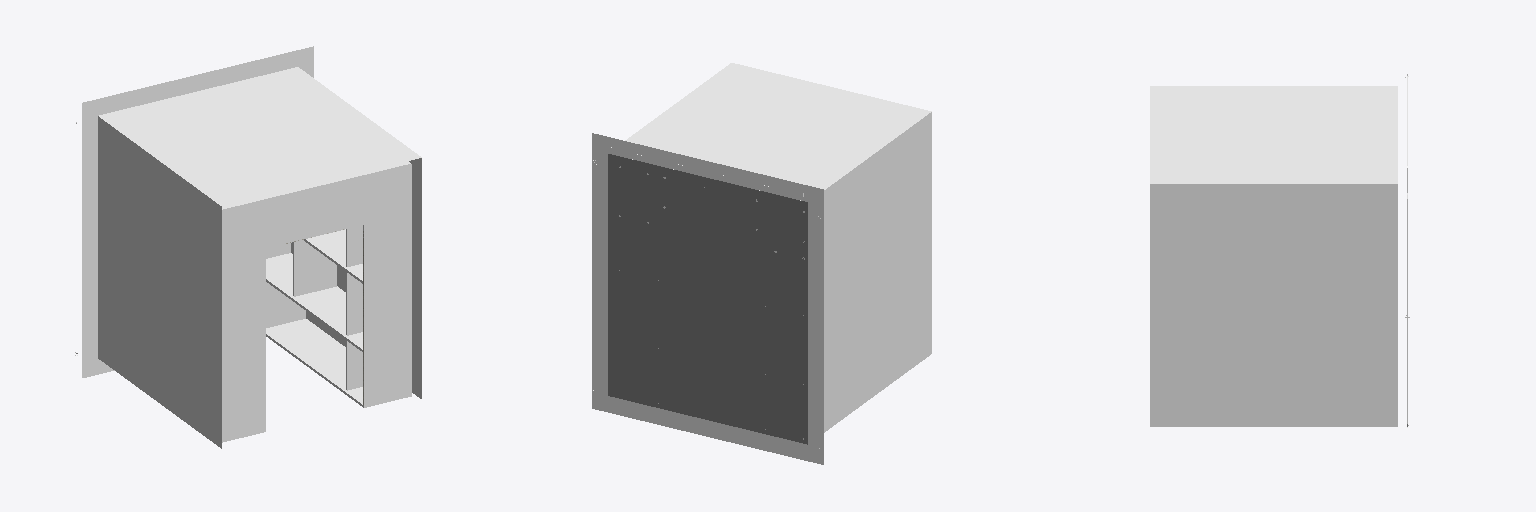
3 views of the same model, side by side, from view 1: azimuth 30°, elevation 25°; view 2: azimuth 150°, elevation 25°; view 3: azimuth 270°, elevation 25° (orthographic).
Parts seen in each view (by area): view 1: Object_171, Object_169, Object_85, Object_42, Object_178, Object_172, Object_156, Object_126, Object_23, Object_139, Object_41, Object_143 (+9 smaller); view 2: Object_168, Object_171, Object_169, Object_178, Object_174, Object_176, Object_172; view 3: Object_170, Object_169.
Part boxes in pixels (x1,y1,x2,y2): Object_171: (98,116,221,448); Object_169: (99,67,421,205); Object_85: (364,163,411,281); Object_42: (222,185,320,258); Object_178: (82,104,97,377); Object_172: (82,46,313,115); Object_156: (266,319,411,407); Object_126: (364,273,411,350); Object_23: (222,309,265,384); Object_139: (266,253,411,352); Object_41: (222,249,265,316); Object_143: (364,342,411,404); Object_168: (608,154,807,444); Object_171: (824,112,931,432); Object_169: (625,63,931,200); Object_178: (808,190,823,464); Object_174: (592,134,607,407); Object_176: (592,396,822,464); Object_172: (592,133,823,201); Object_170: (1150,184,1397,426); Object_169: (1150,86,1397,183).
Bounding box in the file's own units: 2936 × 3300 × 2817.
Materials: 9 (2 with a texture image).